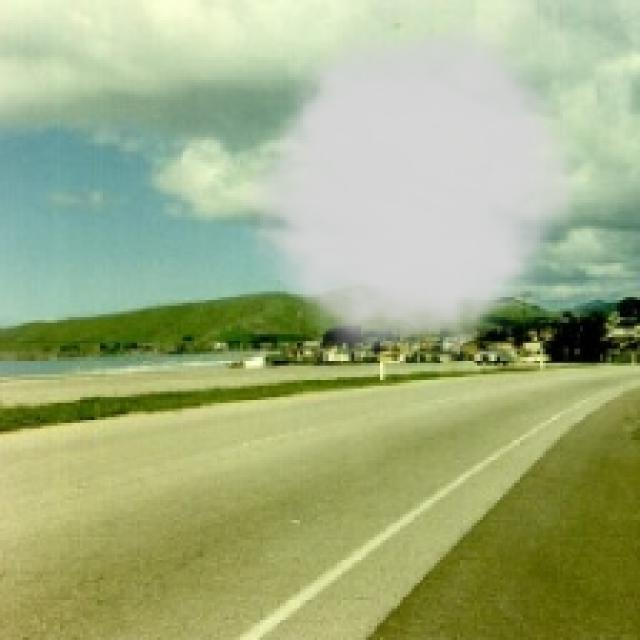Smoke: (232, 8, 594, 360)
